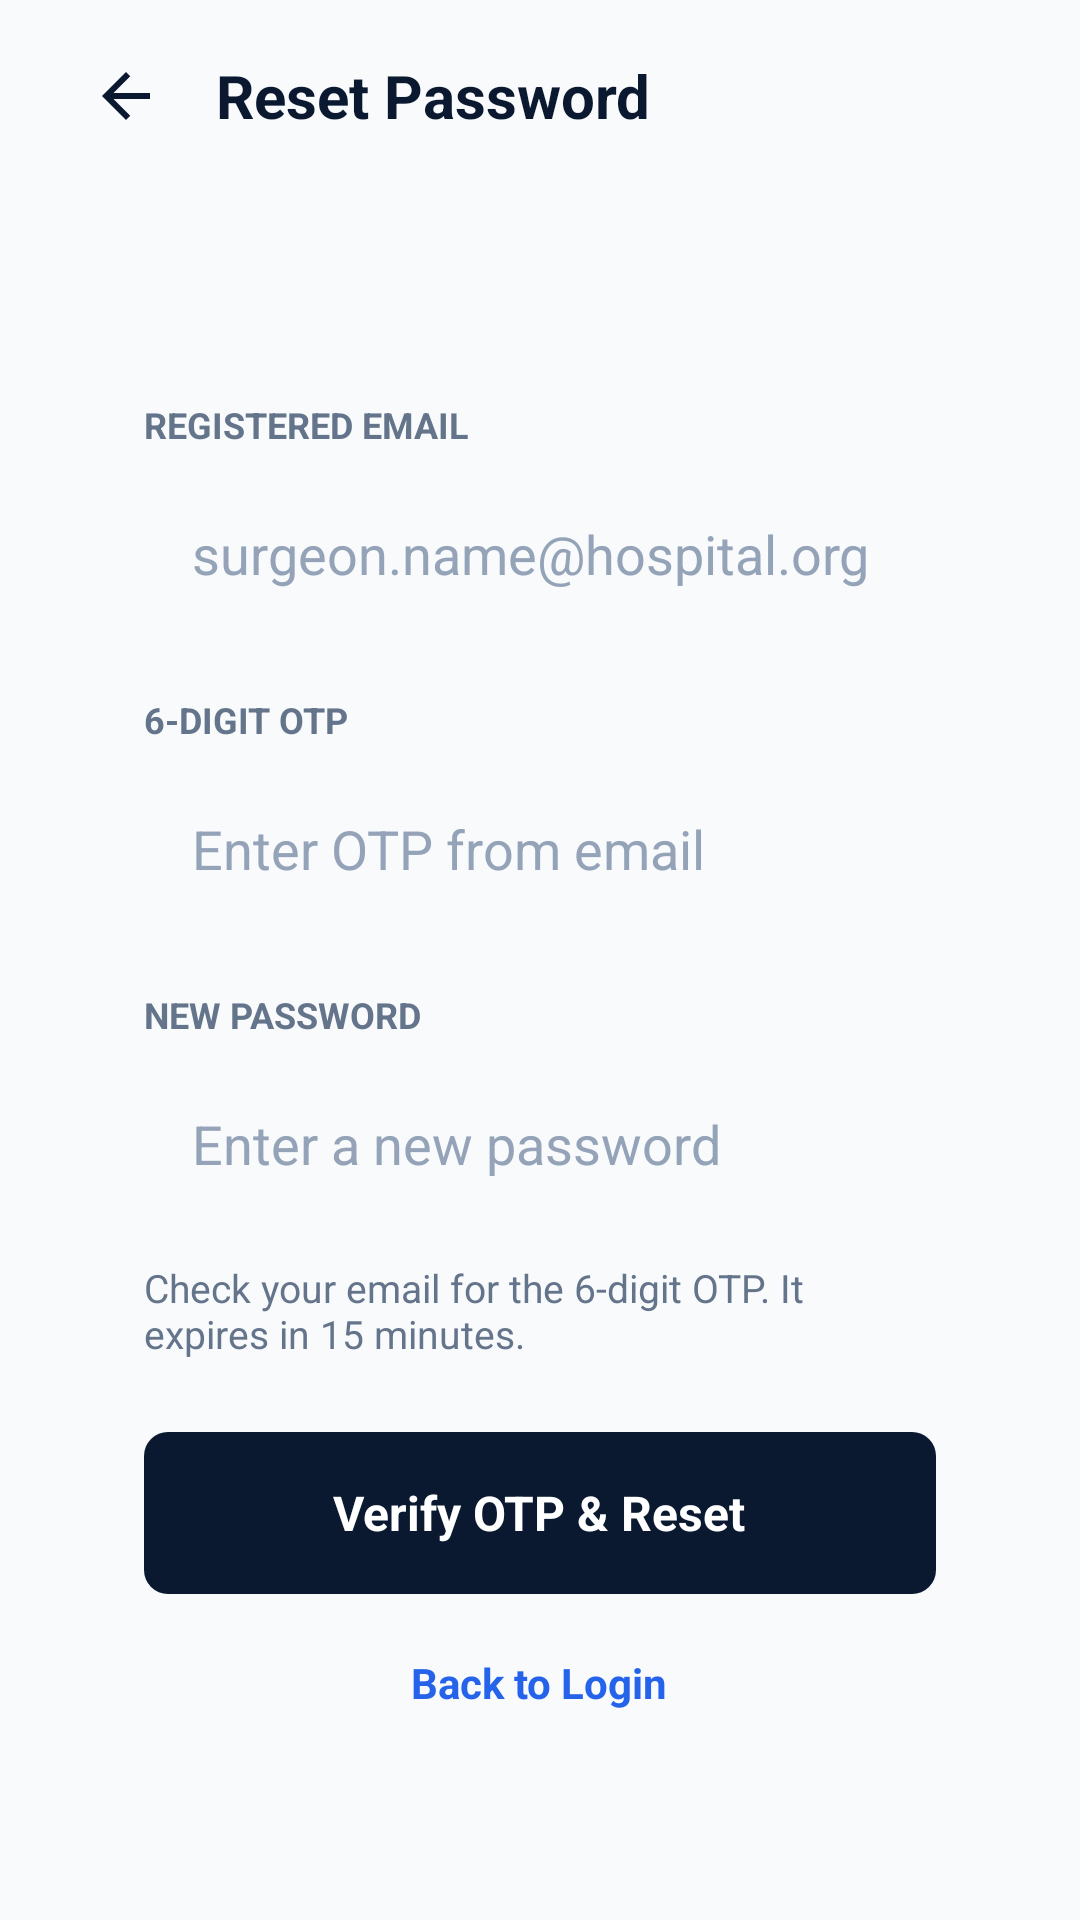

Where icons sit on this 1080 x 1920 app screen, as (x1,y1,x2,y2):
Back Button: (102,72,150,120)
